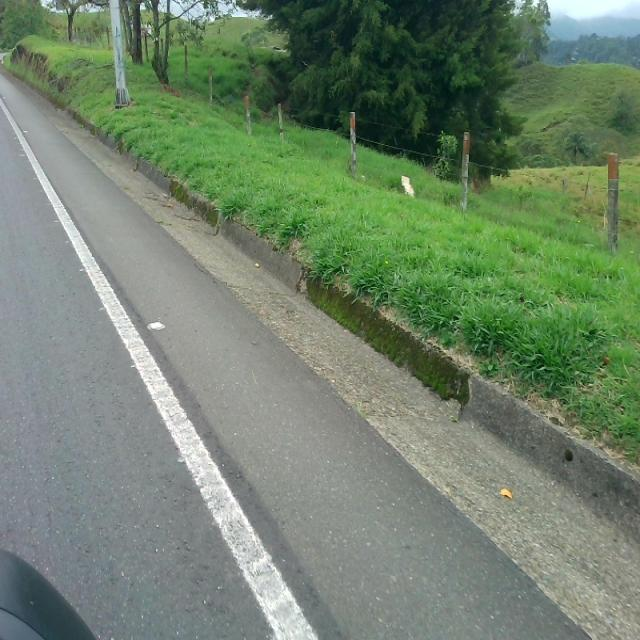DITCH: (1, 53, 638, 638)
